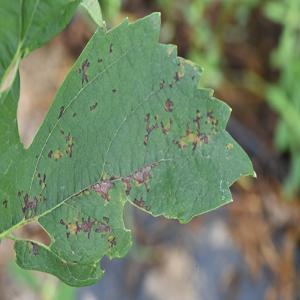Folha: (0, 7, 257, 288)
Fungo: (16, 41, 113, 220), (142, 68, 219, 151), (172, 107, 218, 151), (18, 169, 47, 220), (59, 215, 113, 240), (143, 112, 158, 146), (20, 192, 38, 219), (92, 179, 113, 202), (78, 216, 95, 238), (94, 218, 112, 238), (205, 108, 218, 133), (78, 58, 90, 84), (160, 116, 173, 135), (65, 131, 74, 157), (21, 192, 29, 218), (193, 108, 202, 130), (28, 196, 38, 215), (164, 96, 174, 112), (133, 196, 145, 208), (53, 147, 63, 161), (39, 173, 46, 189), (32, 196, 38, 213), (57, 105, 64, 119), (173, 70, 180, 82), (32, 242, 38, 255), (206, 108, 213, 119), (110, 236, 116, 248), (225, 142, 233, 150), (2, 198, 8, 208), (159, 78, 165, 88), (143, 134, 148, 146), (90, 102, 97, 110), (102, 215, 109, 223), (65, 132, 70, 143), (35, 170, 41, 178), (61, 258, 67, 266), (17, 189, 23, 197), (109, 42, 113, 52), (60, 218, 65, 226), (48, 150, 52, 158), (97, 57, 102, 63), (168, 82, 173, 88), (43, 174, 46, 183), (43, 195, 46, 203), (72, 112, 76, 117), (112, 88, 116, 93), (60, 128, 63, 134)
